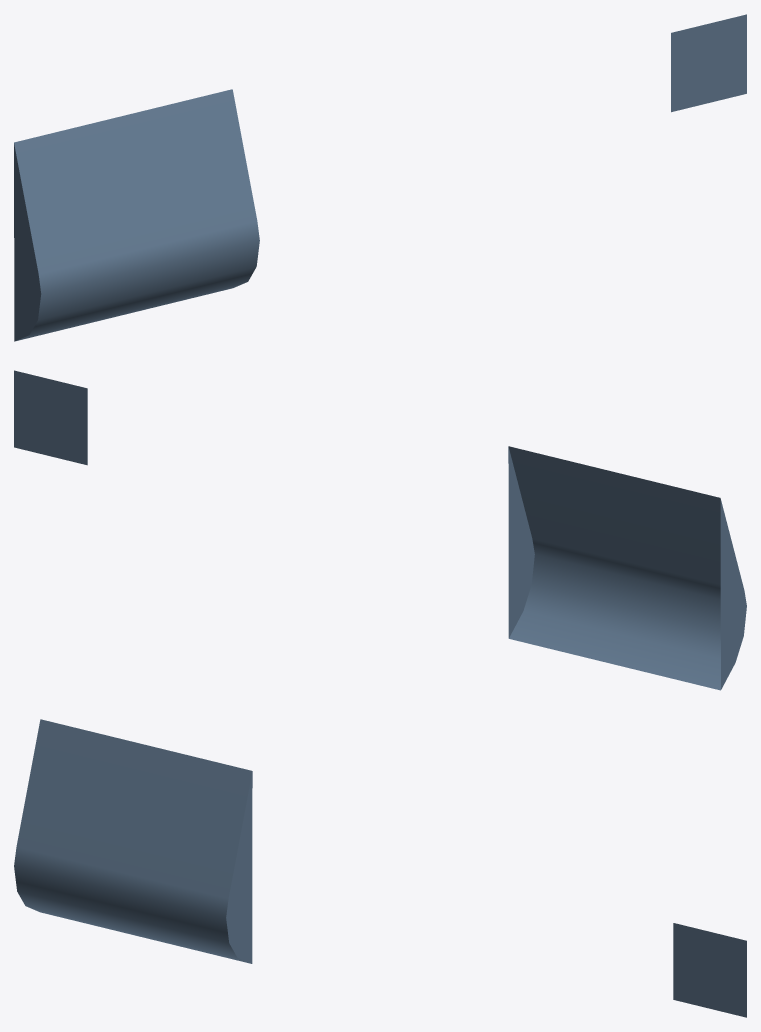
The model's file is SM_BarsWin_BuildNumber_01.fbx.
The picture shows the model from 3 angles, top to bottom: view 1: azimuth 30°, elevation 25°; view 2: azimuth 150°, elevation 25°; view 3: azimuth 330°, elevation 25°; orthographic projection. The views are drawn at different scales.
Visible parts, largest first — view 1: SM_BarsWin_01, SM_BuildNumber_01; view 2: SM_BarsWin_01, SM_BuildNumber_01; view 3: SM_BarsWin_01, SM_BuildNumber_01.
Boxes of the visible parts, box(x1,y1,x2,y2) form: SM_BarsWin_01: box(14, 89, 259, 341); SM_BuildNumber_01: box(671, 14, 746, 112); SM_BarsWin_01: box(508, 446, 746, 690); SM_BuildNumber_01: box(14, 370, 87, 465); SM_BarsWin_01: box(14, 719, 252, 963); SM_BuildNumber_01: box(673, 923, 746, 1017).
Size of the model in its own units: 625 by 163 by 40.36.
